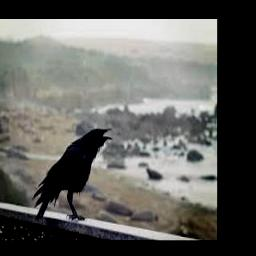Crow: (32, 126, 113, 222)
